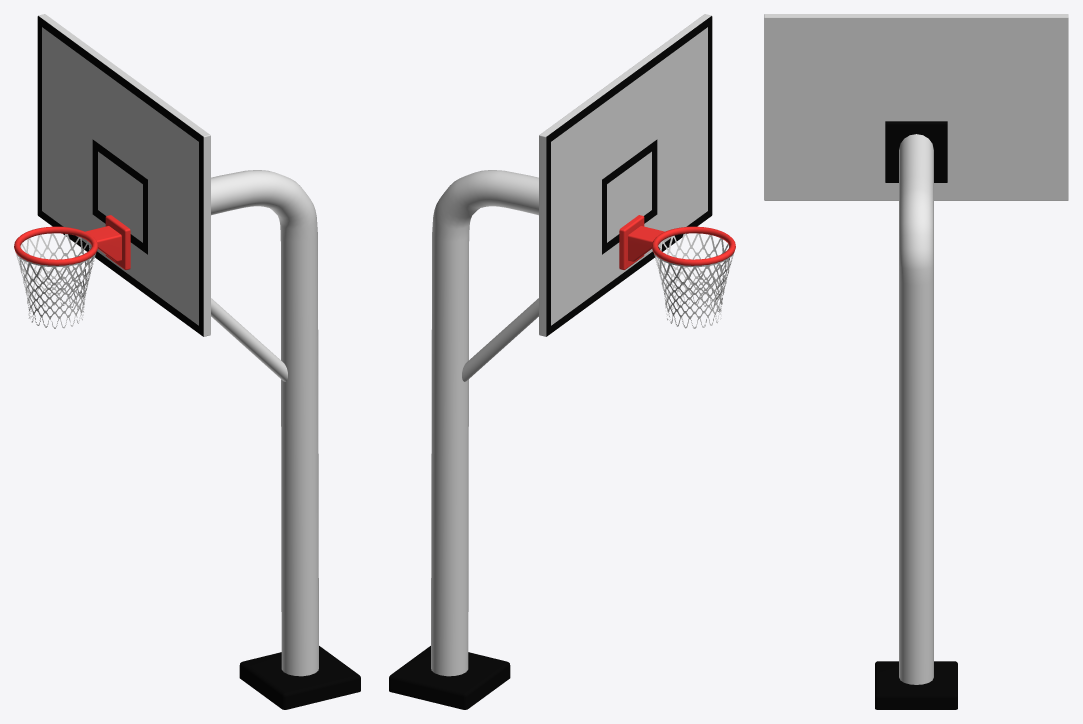
The model's file is Rim-2_V2.fbx.
The picture shows the model from 3 angles, left to right: view 1: azimuth 30°, elevation 25°; view 2: azimuth 150°, elevation 25°; view 3: azimuth 270°, elevation 25°; orthographic projection. The views are drawn at different scales.
Parts seen in each view (by area): view 1: Rim-2_V2; view 2: Rim-2_V2; view 3: Rim-2_V2.
Part boxes in pixels (<box>): Rim-2_V2: <box>14,14,360,709</box>; Rim-2_V2: <box>389,14,735,709</box>; Rim-2_V2: <box>764,14,1068,709</box>.
Bounding box in the file's own units: 204 × 397 × 183.
